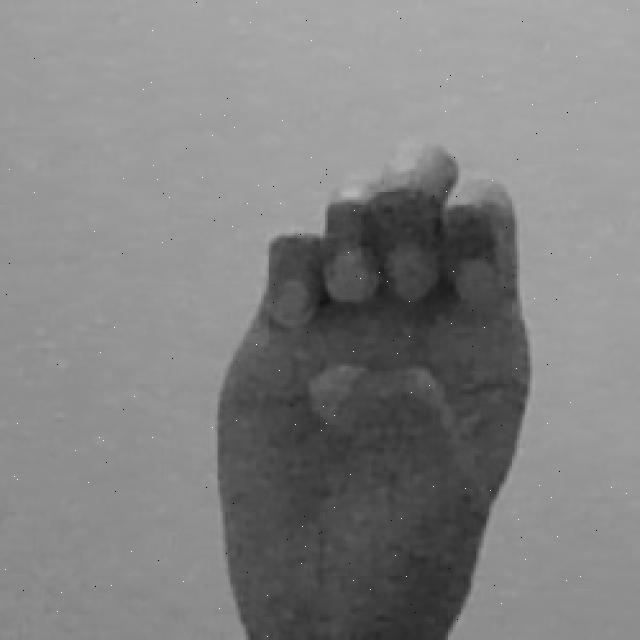E: (218, 145, 530, 640)
